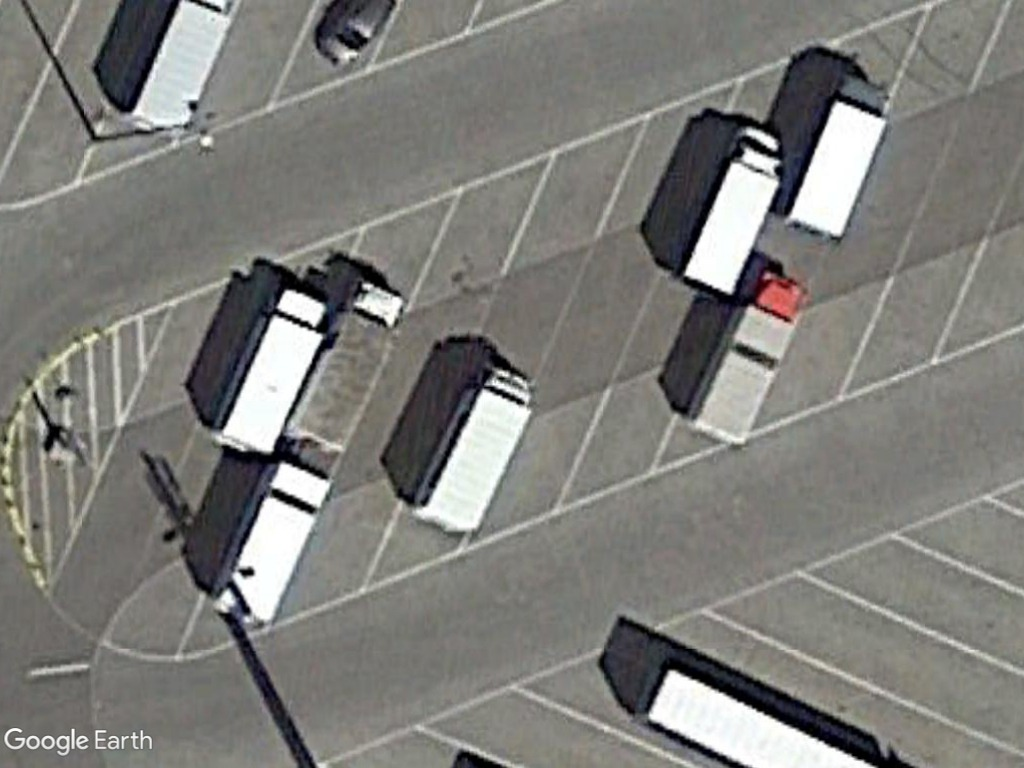truck: (402, 364, 542, 543), (283, 276, 411, 468), (667, 121, 791, 304), (686, 268, 811, 449), (212, 455, 338, 625), (208, 281, 325, 457), (782, 71, 891, 246)
